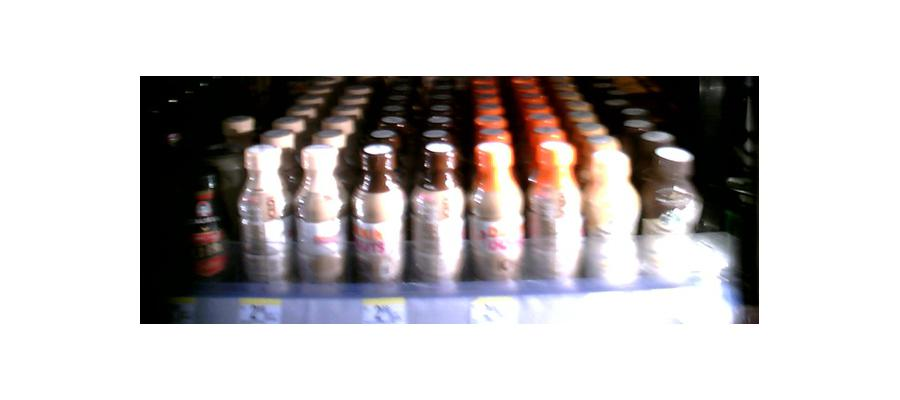bottle: (583, 131, 640, 288), (524, 130, 581, 286), (468, 121, 521, 285), (645, 140, 704, 283), (236, 136, 291, 289), (409, 137, 462, 287), (350, 141, 401, 285), (294, 142, 344, 284)
